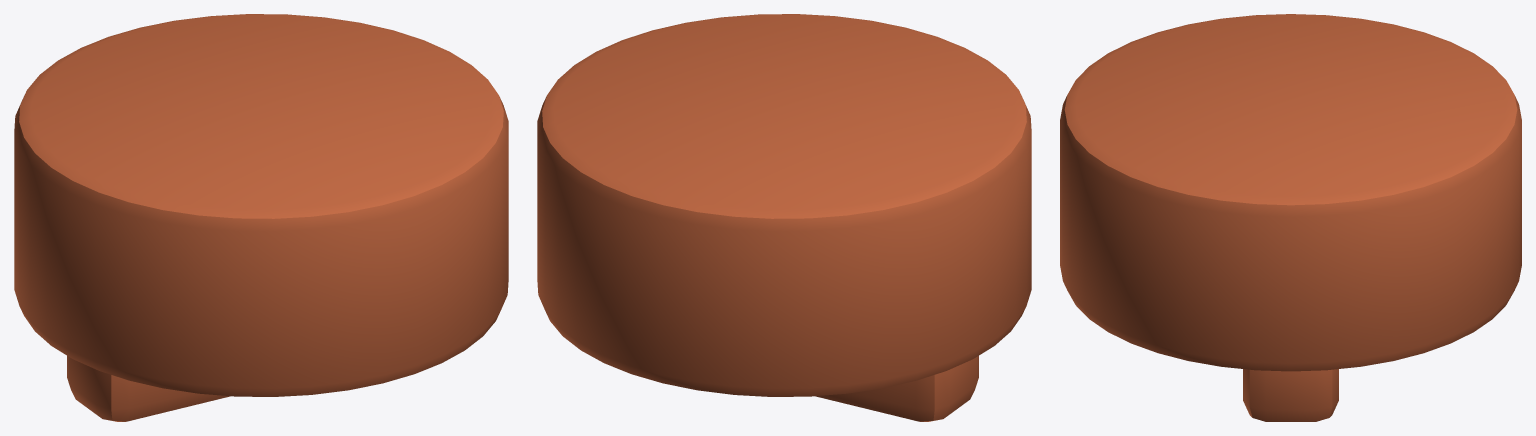
Rendered from magnetic_core_drill_magnet_switch.glb.
The picture shows the model from 3 angles, left to right: view 1: azimuth 30°, elevation 25°; view 2: azimuth 150°, elevation 25°; view 3: azimuth 270°, elevation 25°; orthographic projection. The views are drawn at different scales.
Visible parts, largest first — view 1: magnetic_core_drill_magnet_switch; view 2: magnetic_core_drill_magnet_switch; view 3: magnetic_core_drill_magnet_switch.
Part boxes in pixels (x1=…): magnetic_core_drill_magnet_switch: x1=14, y1=14, x2=508, y2=421; magnetic_core_drill_magnet_switch: x1=537, y1=14, x2=1031, y2=421; magnetic_core_drill_magnet_switch: x1=1060, y1=14, x2=1521, y2=421.
Size of the model in its own units: 0.024 by 0.014 by 0.024.
